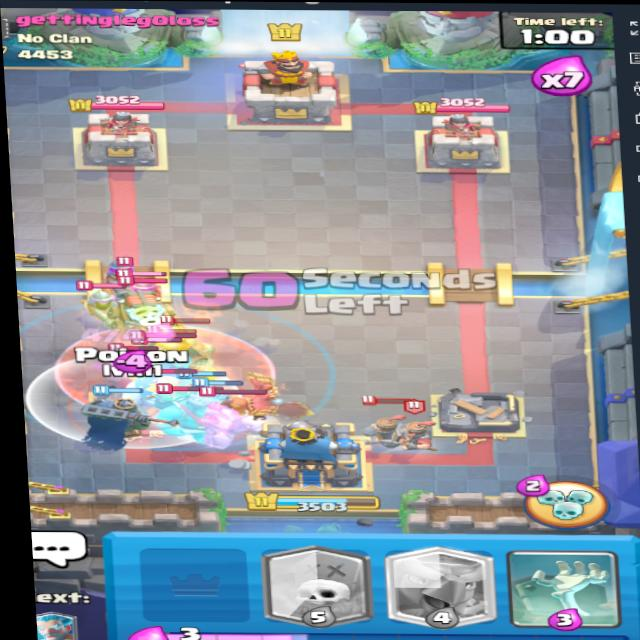electro-giant: (130, 368, 229, 416)
goblin-giant: (143, 385, 246, 443)
golem: (186, 397, 284, 455)
musketeer: (130, 264, 178, 307), (101, 249, 143, 290), (83, 283, 127, 319)
royal-giant: (120, 333, 227, 377)
royal-recruits: (392, 406, 448, 448), (363, 402, 415, 444)
sparky: (103, 272, 184, 334)
